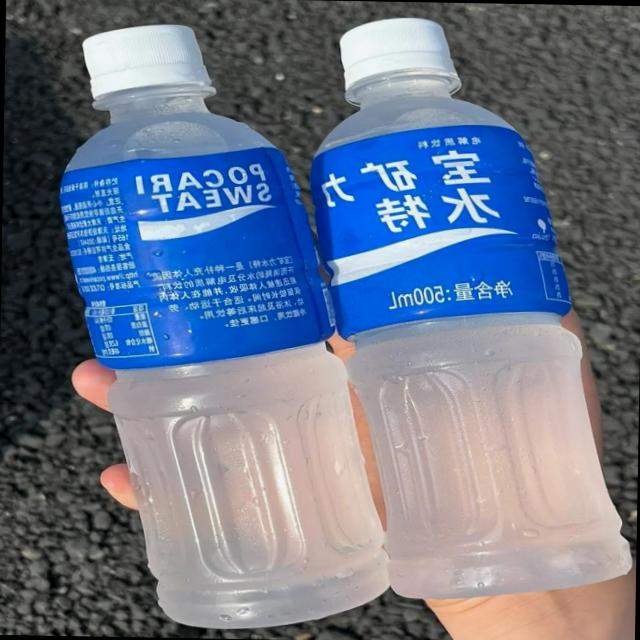bottle: (46, 21, 407, 635), (300, 15, 640, 605)
